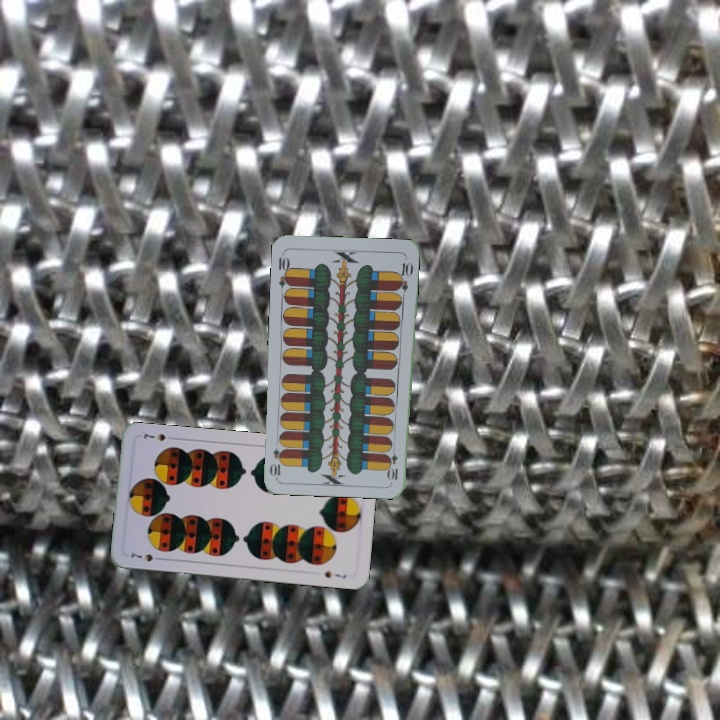E10: (274, 249, 293, 290), (386, 442, 400, 483)
S7: (127, 549, 165, 564)
